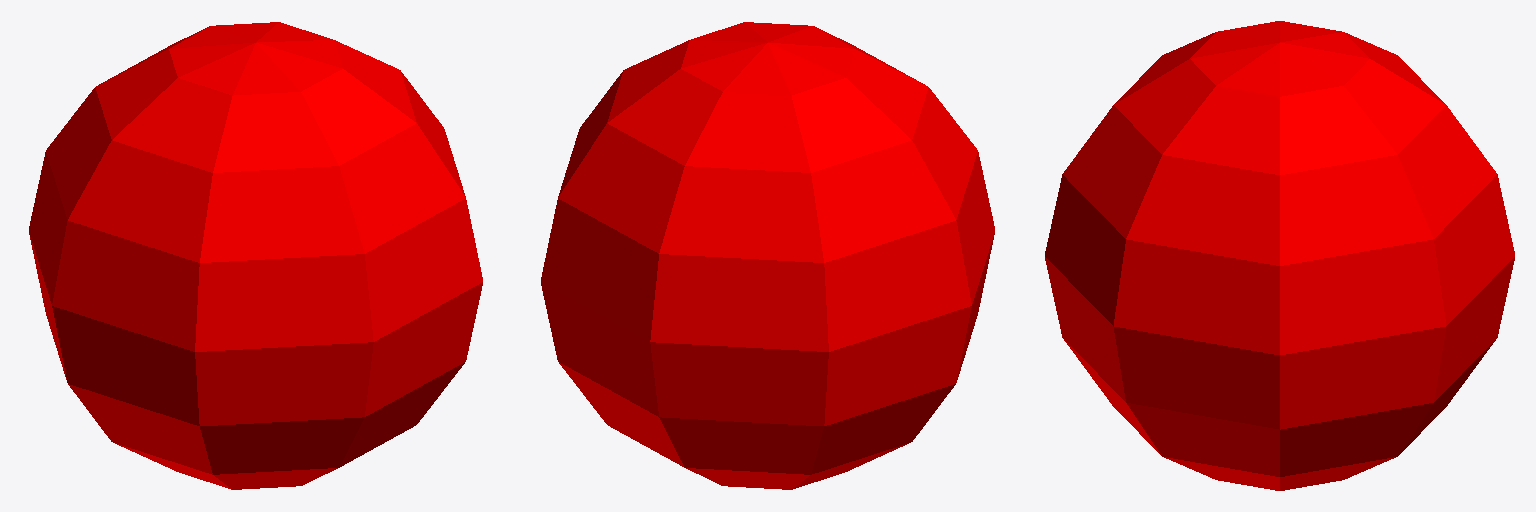
The model's file is Gouraud-Sphere-low.obj.
The picture shows the model from 3 angles: view 1: azimuth 30°, elevation 25°; view 2: azimuth 150°, elevation 25°; view 3: azimuth 270°, elevation 25°; orthographic projection.
Parts seen in each view (by area): view 1: sphere; view 2: sphere; view 3: sphere.
Part boxes in pixels (left/top/right/bottom): sphere: left=29, top=22, right=482, bottom=489; sphere: left=541, top=22, right=994, bottom=489; sphere: left=1045, top=21, right=1514, bottom=490.
Size of the model in its own units: 2 by 2 by 2.